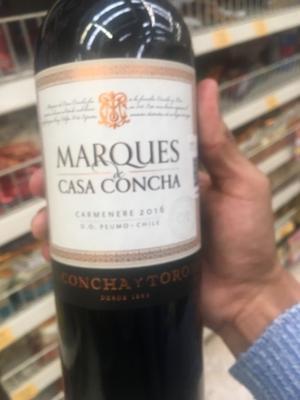marques de casa concha carmenere: (20, 12, 213, 387)
